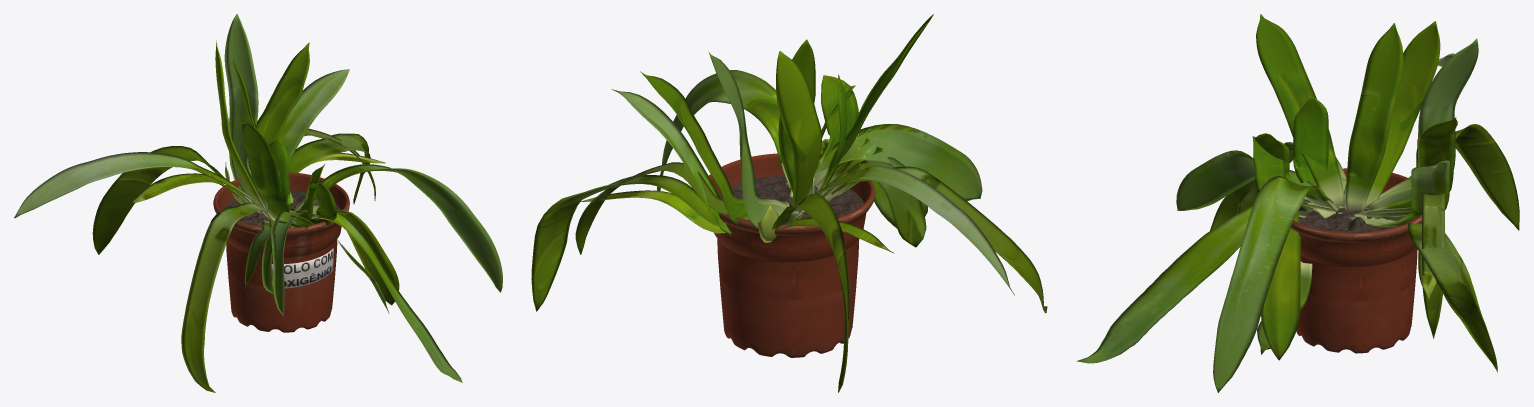
The model's file is solo_com_oxigenio_07_02.glb.
3 renders of one model, left to right at view 1: azimuth 30°, elevation 25°; view 2: azimuth 150°, elevation 25°; view 3: azimuth 270°, elevation 25°, orthographic. The views are drawn at different scales.
Parts seen in each view (by area): view 1: Vaso, Folha_F02_longa_esq, Folha_F17_grande_dir, Folha_F01_arco_esq, Folha_F12_alta_fundo, Folha_F04_tras_esq, Folha_F16_ponta_dir, Folha_F15_alta_dir, Folha_F22_frente, Folha_F08_alta_esq, Folha_F18_media_dir, Folha_F23_frente_dir (+10 smaller); view 2: Vaso, Folha_F05_grande_esq, Folha_F18_media_dir, Folha_F09_alta_tras, Folha_F01_arco_esq, Folha_F17_grande_dir, Folha_F02_longa_esq, Folha_F04_tras_esq, Folha_F15_alta_dir, Folha_F12_alta_fundo, Folha_F16_ponta_dir, Folha_F07_baixa_esq (+10 smaller); view 3: Vaso, Folha_F17_grande_dir, Folha_F22_frente, Folha_F11_alta_centro, Folha_F08_alta_esq, Folha_F09_alta_tras, Folha_F18_media_dir, Folha_F23_frente_dir, Folha_F04_tras_esq, Folha_F05_grande_esq, Folha_F12_alta_fundo, Folha_F10_ponta_centro (+8 smaller).
Boxes of the visible parts, <box> form: Vaso: <box>213,172,349,332</box>; Folha_F02_longa_esq: <box>181,202,272,392</box>; Folha_F17_grande_dir: <box>295,164,502,292</box>; Folha_F01_arco_esq: <box>14,152,264,218</box>; Folha_F12_alta_fundo: <box>224,14,263,204</box>; Folha_F04_tras_esq: <box>92,146,259,254</box>; Folha_F16_ponta_dir: <box>278,69,349,203</box>; Folha_F15_alta_dir: <box>248,42,309,170</box>; Folha_F22_frente: <box>290,205,462,382</box>; Folha_F08_alta_esq: <box>242,122,281,209</box>; Folha_F18_media_dir: <box>289,133,370,204</box>; Folha_F23_frente_dir: <box>290,205,399,305</box>; Vaso: <box>708,153,875,357</box>; Folha_F05_grande_esq: <box>786,124,982,201</box>; Folha_F18_media_dir: <box>531,175,728,311</box>; Folha_F09_alta_tras: <box>776,51,822,213</box>; Folha_F01_arco_esq: <box>802,165,1014,295</box>; Folha_F17_grande_dir: <box>657,70,789,190</box>; Folha_F02_longa_esq: <box>821,166,1047,313</box>; Folha_F04_tras_esq: <box>772,193,850,392</box>; Folha_F15_alta_dir: <box>640,71,787,226</box>; Folha_F12_alta_fundo: <box>708,51,788,229</box>; Folha_F16_ponta_dir: <box>611,89,789,235</box>; Folha_F07_baixa_esq: <box>824,157,926,247</box>; Vaso: <box>1291,168,1421,353</box>; Folha_F17_grande_dir: <box>1213,176,1338,392</box>; Folha_F22_frente: <box>1076,197,1317,363</box>; Folha_F11_alta_centro: <box>1345,23,1403,211</box>; Folha_F08_alta_esq: <box>1256,14,1345,206</box>; Folha_F09_alta_tras: <box>1355,21,1440,208</box>; Folha_F18_media_dir: <box>1361,217,1497,372</box>; Folha_F23_frente_dir: <box>1261,204,1344,360</box>; Folha_F04_tras_esq: <box>1379,124,1519,230</box>; Folha_F05_grande_esq: <box>1176,150,1338,218</box>; Folha_F12_alta_fundo: <box>1366,38,1478,210</box>; Folha_F10_ponta_centro: <box>1293,95,1345,206</box>.
Bounding box in the file's own units: 0.4882 × 0.3121 × 0.4231.
Materials: 4 (4 with a texture image).
